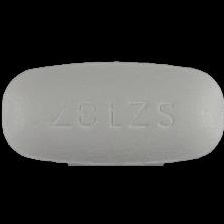0781-1943: (0, 0, 224, 224)
